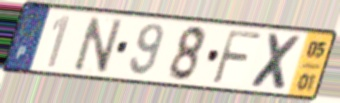1: (45, 14, 73, 69)
8: (167, 24, 209, 84)
9: (127, 22, 166, 78)
F: (209, 28, 265, 87)
N: (71, 14, 125, 74)
X: (247, 30, 306, 93)
